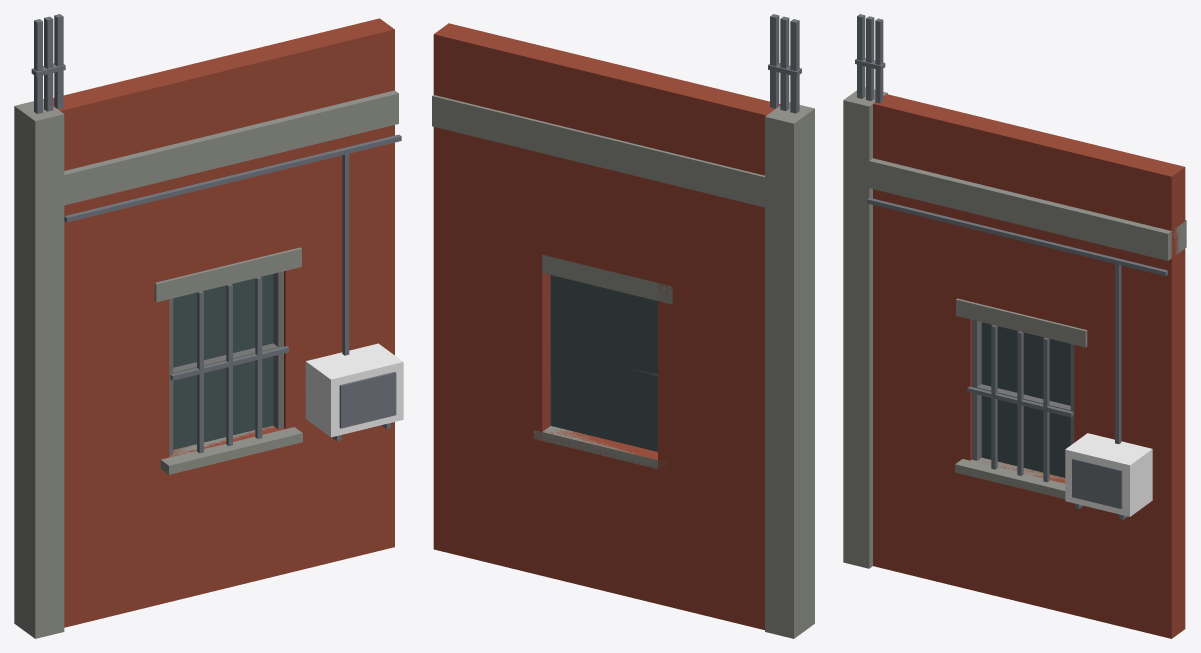
Rendered from top-w1_close.fbx.
The picture shows the model from 3 angles, left to right: view 1: azimuth 30°, elevation 25°; view 2: azimuth 150°, elevation 25°; view 3: azimuth 330°, elevation 25°; orthographic projection. The views are drawn at different scales.
Parts seen in each view (by area): view 1: a2020/0/top-w1_close; view 2: a2020/0/top-w1_close; view 3: a2020/0/top-w1_close.
Part boxes in pixels (x1,y1,x2,y2): a2020/0/top-w1_close: [14, 14, 403, 638]; a2020/0/top-w1_close: [432, 14, 814, 638]; a2020/0/top-w1_close: [843, 14, 1186, 638].
Bounding box in the file's own units: 2.5 × 4 × 0.545.
